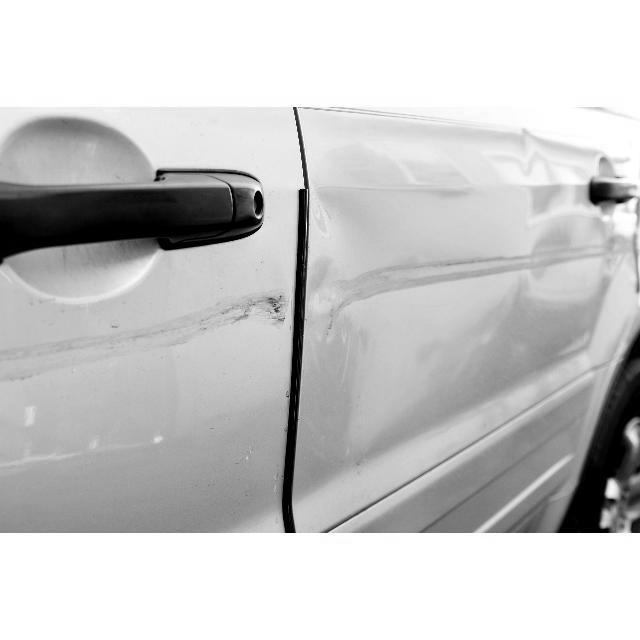doorouter-dent: (299, 109, 640, 533), (1, 111, 300, 534)
